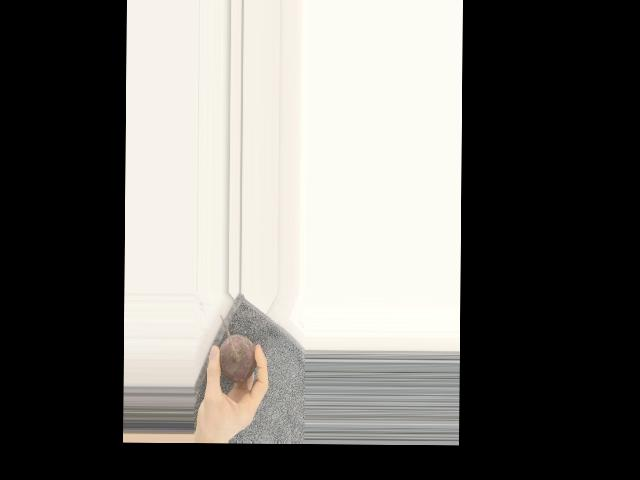beet: (218, 314, 256, 382)
